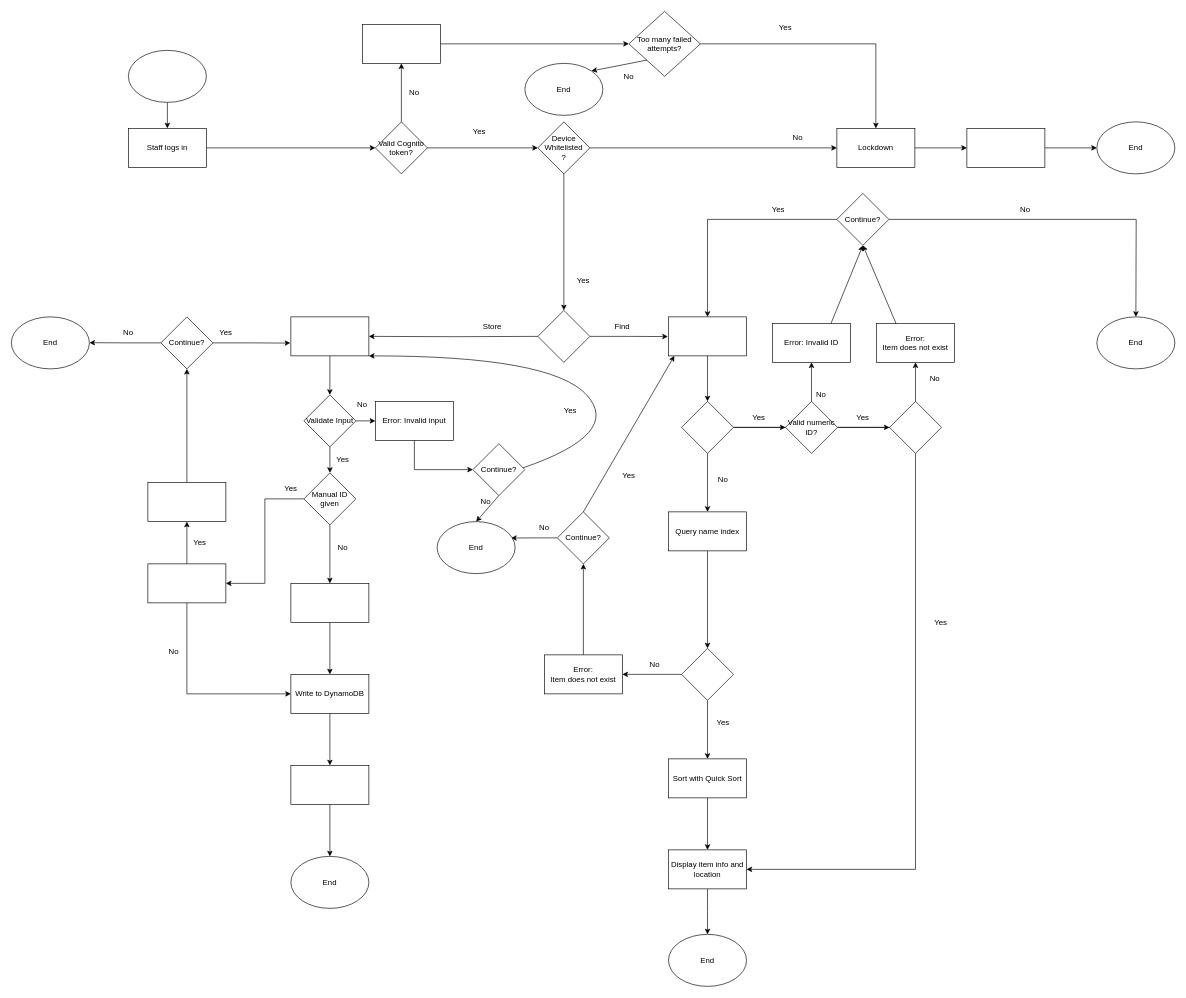
Image size: 1186x998. Some labels were removed from this diagram. The shapes that lost their labels are listed below. From the top down, each one's centre as x and y in pixels, then its label:
the point at 401,43: Login Failed
the point at 167,76: Start
the point at 1005,147: Alert Admins
the point at 329,336: Enter name/desc/shelf + optional ID
the point at 563,336: Store item or Find?
the point at 707,336: Enter name or ID
the point at 707,427: Is it an ID?
the point at 915,427: Does item exist?
the point at 186,502: Error: Duplicate ID
the point at 186,583: ID already exists?
the point at 329,602: Take next ID from the counter
the point at 707,674: Any matches
the point at 329,784: Show confirmation
